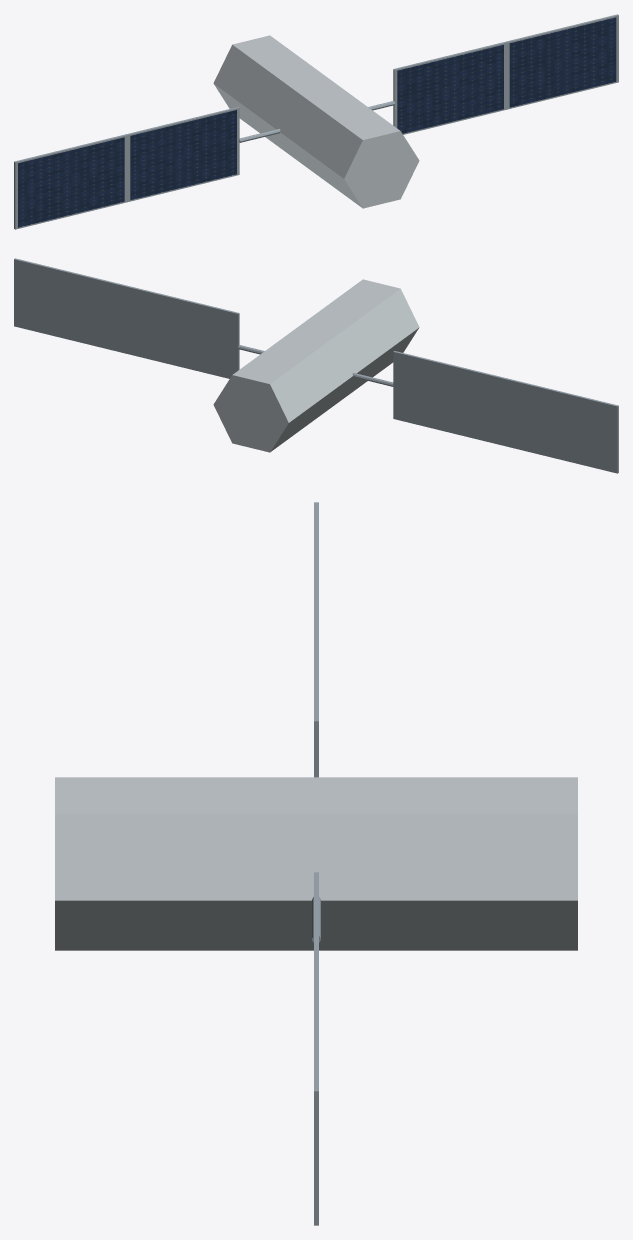
File: ref-imece-56178.glb
The picture shows the model from 3 angles, top to bottom: view 1: azimuth 30°, elevation 25°; view 2: azimuth 150°, elevation 25°; view 3: azimuth 270°, elevation 25°; orthographic projection. The views are drawn at different scales.
Visible parts, largest first — view 1: Photovoltaic laminates (×4), Spacecraft body, Array frame (×4); view 2: Array frame (×4), Spacecraft body; view 3: Spacecraft body, Array frame.
Part boxes in pixels (<box>): Photovoltaic laminates (×4): <box>18,17,616,227</box>; Spacecraft body: <box>213,35,419,208</box>; Array frame (×4): <box>14,14,618,229</box>; Array frame (×4): <box>14,258,618,473</box>; Spacecraft body: <box>213,279,419,452</box>; Spacecraft body: <box>55,777,577,950</box>; Array frame: <box>314,982,318,1225</box>.
Bounding box in the file's own units: 8 × 0.866 × 3.
3 materials, 1 textured.
